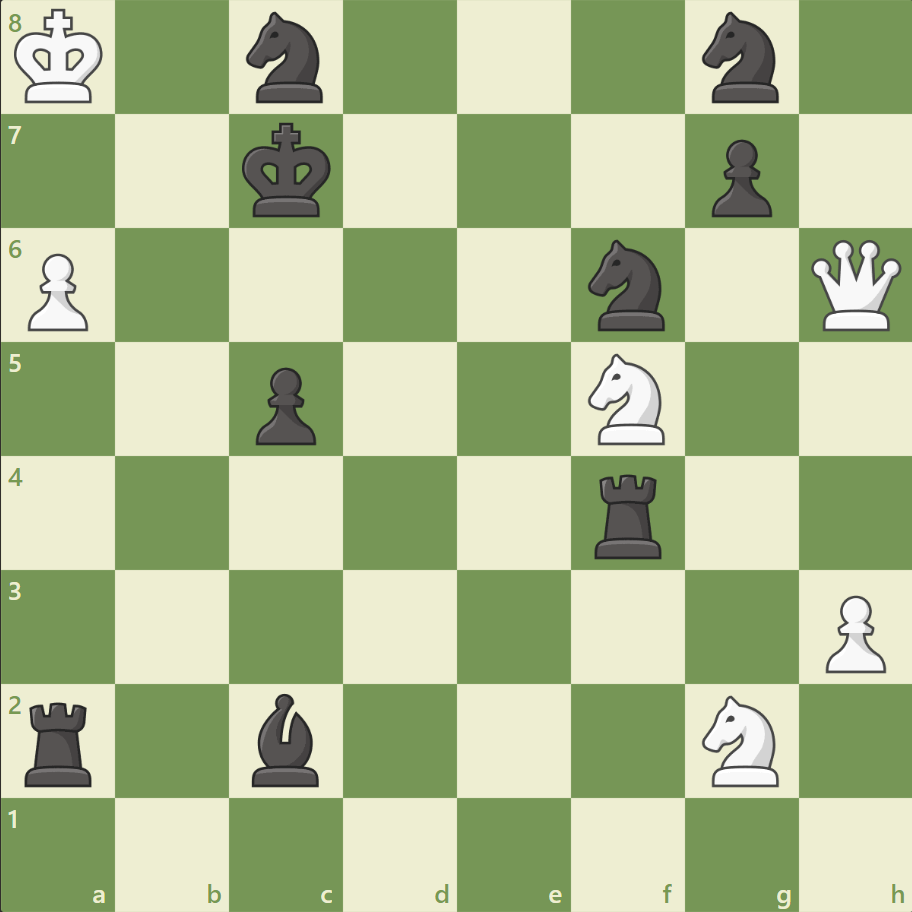K: (11, 4, 111, 112)
N: (692, 688, 789, 791), (579, 348, 676, 450)
P: (20, 246, 95, 337), (815, 586, 889, 677)
Q: (805, 236, 904, 335)
b: (244, 687, 328, 790)
k: (238, 117, 338, 225)
n: (238, 7, 335, 110), (692, 7, 789, 110), (579, 234, 676, 337)
p: (701, 132, 776, 223), (247, 359, 322, 450)
r: (587, 466, 670, 563), (19, 693, 102, 790)
